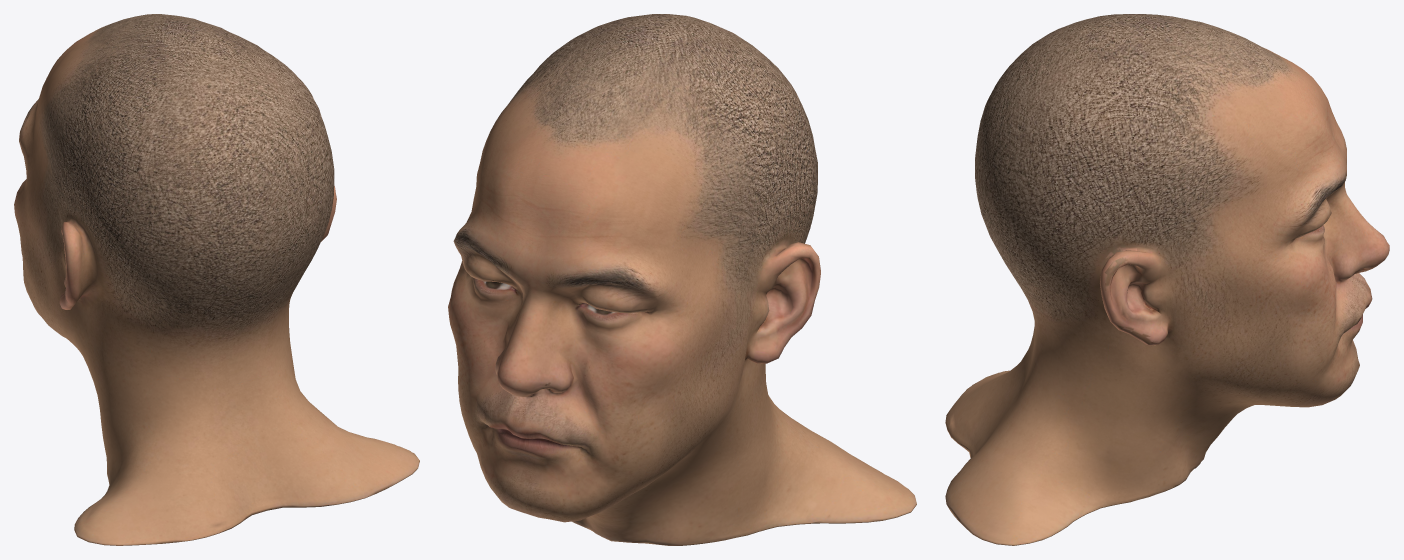
The model's file is Model_HairHead_SoldierA.glb.
3 renders of one model, left to right at view 1: azimuth 30°, elevation 25°; view 2: azimuth 150°, elevation 25°; view 3: azimuth 270°, elevation 25°, orthographic. The views are drawn at different scales.
Visible parts, largest first — view 1: HairHead_SoldierA; view 2: HairHead_SoldierA; view 3: HairHead_SoldierA.
Boxes of the visible parts, x1,y1,x2,y2 form: HairHead_SoldierA: (14, 14, 419, 545); HairHead_SoldierA: (448, 14, 916, 545); HairHead_SoldierA: (945, 14, 1389, 545).
Bounding box in the file's own units: 0.2879 × 0.343 × 0.3148.
1 material, 1 textured.
